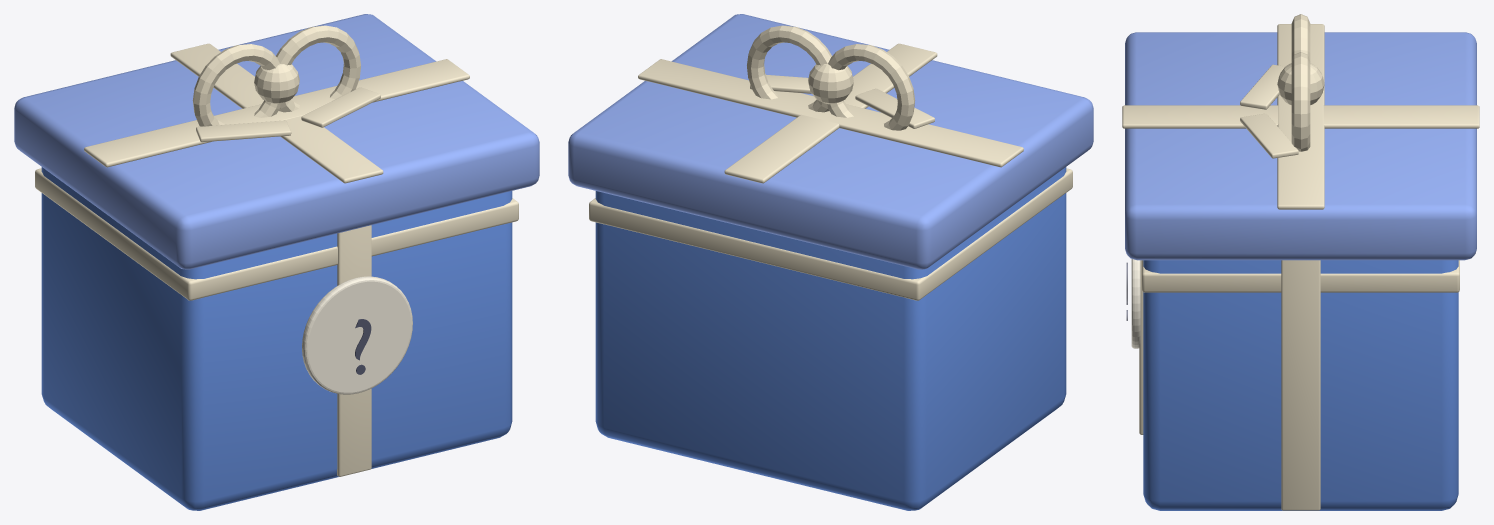
Rendered from style-club-mystery-box.glb.
3 views of the same model, side by side, from view 1: azimuth 30°, elevation 25°; view 2: azimuth 150°, elevation 25°; view 3: azimuth 270°, elevation 25° (orthographic). The views are drawn at different scales.
Parts seen in each view (by area): view 1: BoxShell_Main, LidShell_Main, MysterySeal_Coin, GiftRibbon_Band, GiftRibbon_LidCross, GiftRibbon_LidAcross, GiftRibbon_Front, GiftRibbon_Bow_L, GiftRibbon_Bow_R, GiftRibbon_Tail_L, GiftRibbon_Knot, GiftRibbon_Tail_R; view 2: BoxShell_Main, LidShell_Main, GiftRibbon_Band, GiftRibbon_LidCross, GiftRibbon_LidAcross, GiftRibbon_Bow_L, GiftRibbon_Bow_R, GiftRibbon_Knot, GiftRibbon_Tail_L, GiftRibbon_Tail_R; view 3: BoxShell_Main, LidShell_Main, GiftRibbon_Side, GiftRibbon_LidAcross, GiftRibbon_Band, GiftRibbon_LidCross, GiftRibbon_Bow_R, GiftRibbon_Tail_R, GiftRibbon_Tail_L, GiftRibbon_Knot, MysterySeal_Coin, GiftRibbon_Bow_L (+1 smaller).
Boxes of the visible parts, box(x1,y1,x2,y2) form: BoxShell_Main: box(41, 167, 512, 510); LidShell_Main: box(14, 14, 539, 269); MysterySeal_Coin: box(302, 276, 412, 394); GiftRibbon_Band: box(35, 168, 518, 300); GiftRibbon_LidCross: box(84, 59, 469, 167); GiftRibbon_LidAcross: box(170, 43, 383, 183); GiftRibbon_Front: box(337, 225, 371, 476); GiftRibbon_Bow_L: box(192, 44, 280, 126); GiftRibbon_Bow_R: box(276, 25, 360, 112); GiftRibbon_Tail_L: box(196, 120, 291, 142); GiftRibbon_Knot: box(254, 64, 299, 104); GiftRibbon_Tail_R: box(301, 87, 380, 127); BoxShell_Main: box(595, 167, 1066, 510); LidShell_Main: box(568, 14, 1093, 269); GiftRibbon_Band: box(589, 168, 1072, 300); GiftRibbon_LidCross: box(638, 59, 1023, 167); GiftRibbon_LidAcross: box(724, 43, 937, 183); GiftRibbon_Bow_L: box(827, 44, 915, 130); GiftRibbon_Bow_R: box(747, 25, 831, 112); GiftRibbon_Knot: box(808, 64, 853, 104); GiftRibbon_Tail_L: box(855, 88, 934, 128); GiftRibbon_Tail_R: box(750, 74, 811, 93); BoxShell_Main: box(1143, 260, 1458, 510); LidShell_Main: box(1125, 32, 1476, 260); GiftRibbon_Side: box(1281, 260, 1320, 510); GiftRibbon_LidAcross: box(1122, 105, 1479, 128); GiftRibbon_Band: box(1142, 260, 1459, 292); GiftRibbon_LidCross: box(1277, 24, 1324, 209); GiftRibbon_Bow_R: box(1291, 52, 1310, 151); GiftRibbon_Tail_R: box(1240, 113, 1298, 158); GiftRibbon_Tail_L: box(1240, 64, 1285, 109); GiftRibbon_Knot: box(1277, 63, 1324, 105); MysterySeal_Coin: box(1131, 259, 1140, 348); GiftRibbon_Bow_L: box(1291, 14, 1310, 60).
Size of the model in its own units: 1.64 by 1.66 by 1.36.
